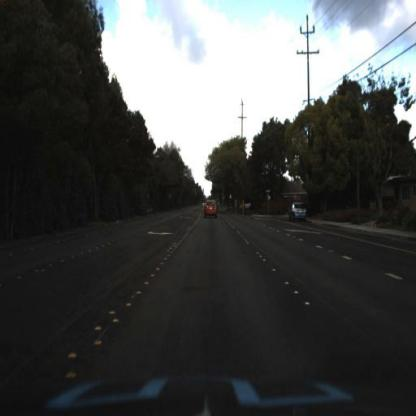car: (288, 200, 309, 226), (201, 196, 219, 226)
